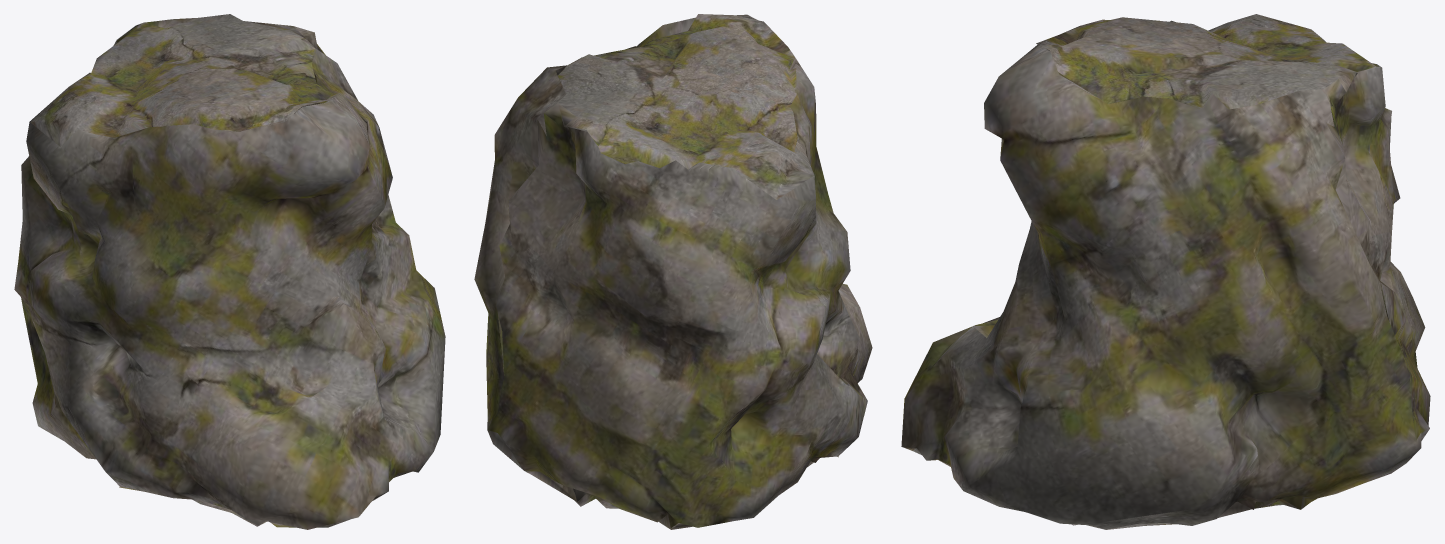
File: rock_scl_1_008.glb
3 renders of one model, left to right at view 1: azimuth 30°, elevation 25°; view 2: azimuth 150°, elevation 25°; view 3: azimuth 270°, elevation 25°, orthographic. The views are drawn at different scales.
Parts seen in each view (by area): view 1: rock scl 1.008; view 2: rock scl 1.008; view 3: rock scl 1.008.
Part boxes in pixels (x1=…): rock scl 1.008: x1=14, y1=14, x2=445, y2=529; rock scl 1.008: x1=474, y1=14, x2=872, y2=529; rock scl 1.008: x1=901, y1=14, x2=1430, y2=529.
Bounding box in the file's own units: 2.35 × 2.51 × 2.83.
1 material, 1 textured.
